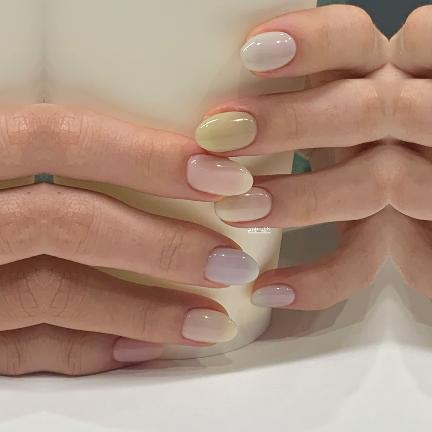Nail: (185, 154, 253, 195), (194, 111, 256, 152), (240, 31, 295, 72), (203, 247, 258, 285), (214, 187, 271, 222), (181, 308, 237, 343), (112, 338, 163, 362), (250, 284, 294, 307)
